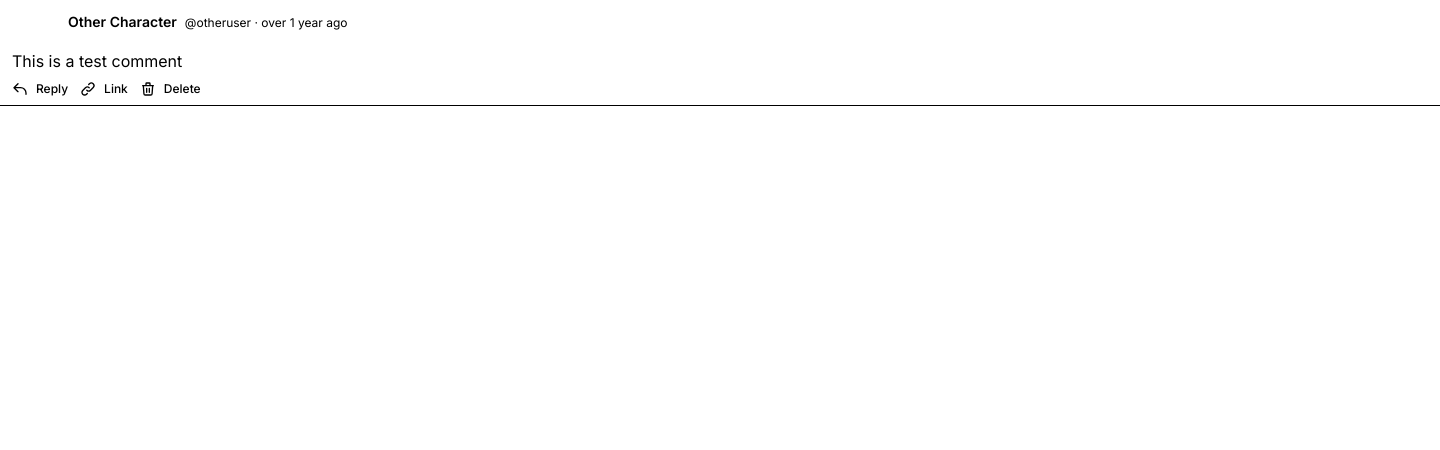
it: ThreadedComment › Reply Form › enables reply button when content is provided
Click the button "Reply" at (40, 89), box [12,81,68,97]
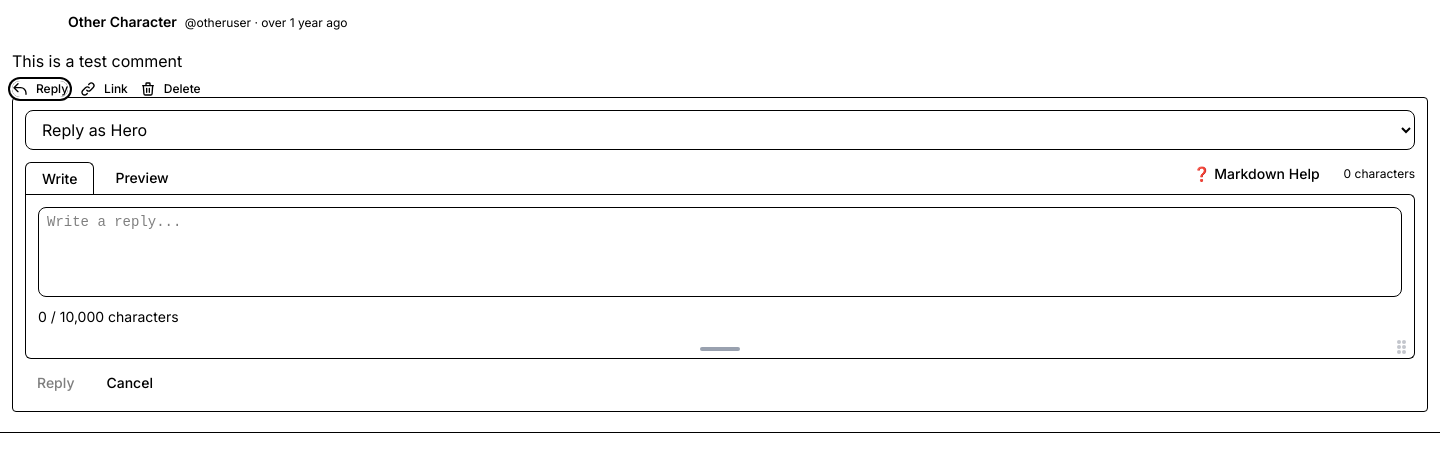
Type "Test reply" into the text box with placeholder "Write a reply..." at (720, 252), box [38,207,1402,297]
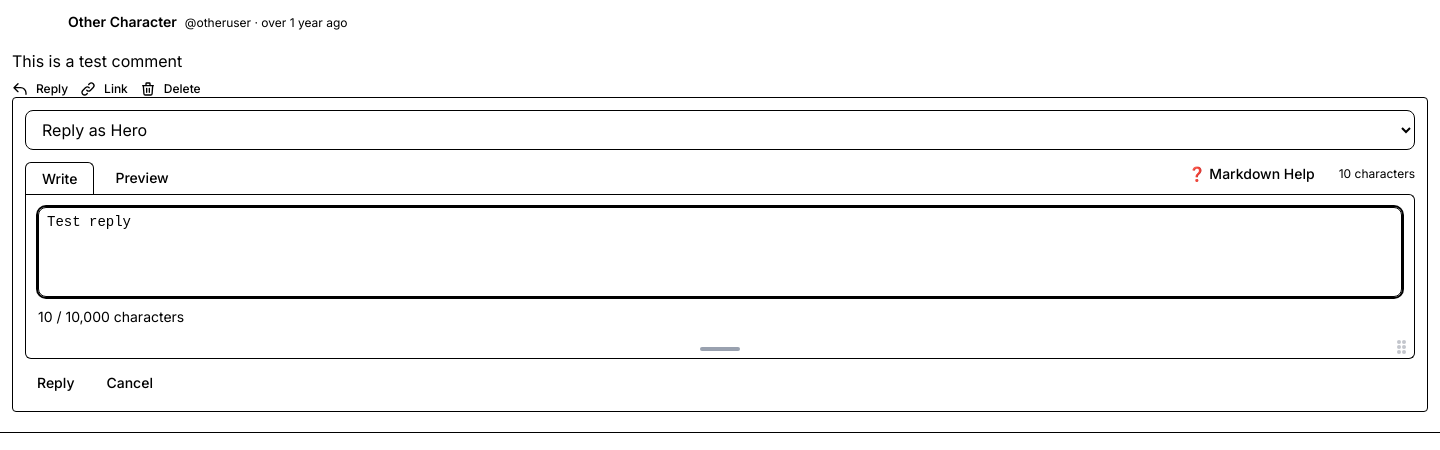
Expected: the submit button is enabled, [25,367,86,399]
